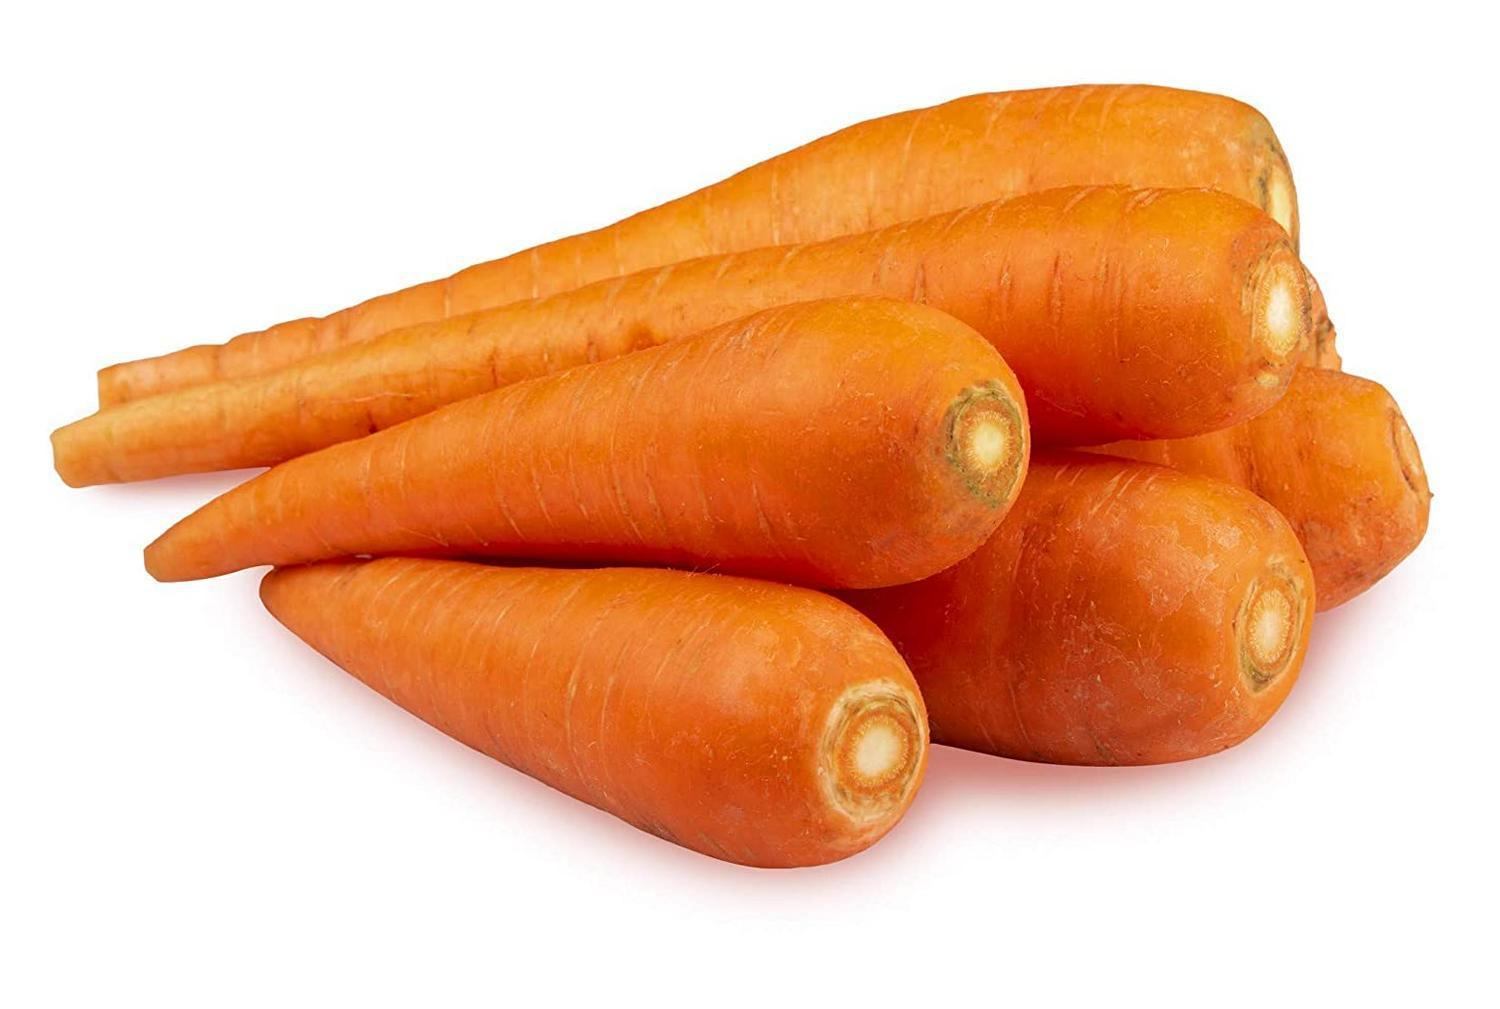carrot: (66, 77, 1468, 876)
